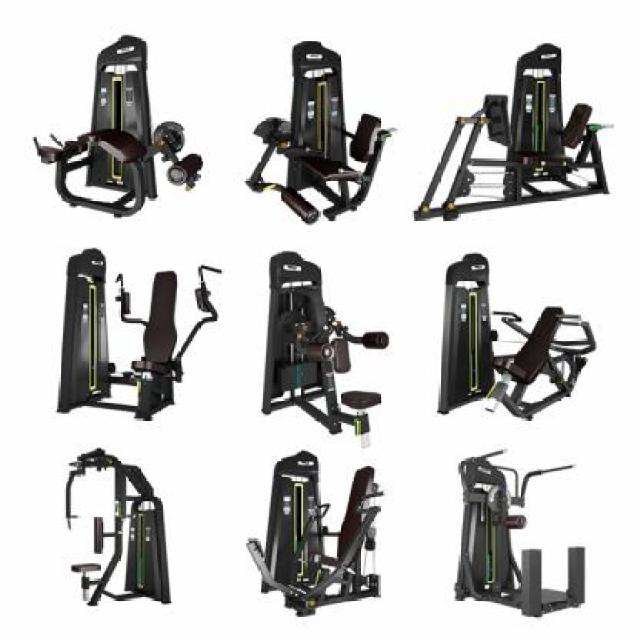Chest Press machine: (437, 251, 598, 423)
chest fly machine: (61, 448, 176, 610)
lateral raises machine: (260, 246, 392, 448), (449, 449, 591, 617)
reg curl machine: (31, 32, 204, 222)
